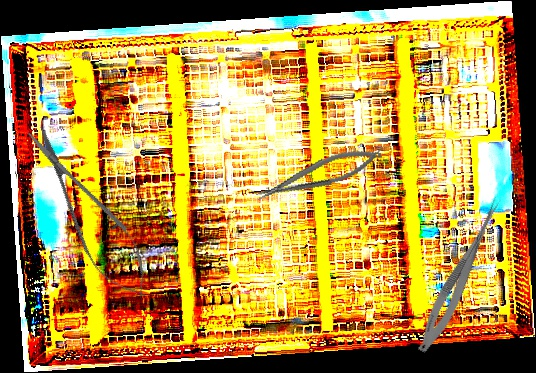Micro Scissor: (12, 113, 164, 311), (412, 192, 507, 357)
Needle Holder: (251, 141, 386, 207)
